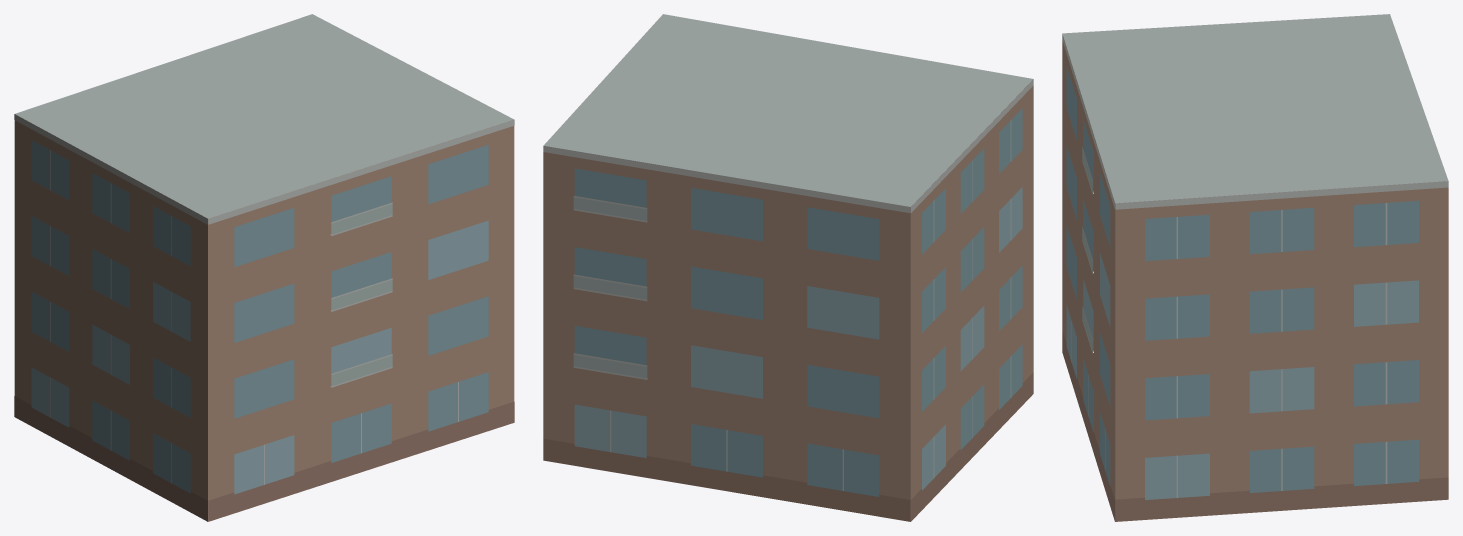
The model's file is survey-upis-32579033.glb.
3 renders of one model, left to right at view 1: azimuth 30°, elevation 25°; view 2: azimuth 150°, elevation 25°; view 3: azimuth 270°, elevation 25°, orthographic. The views are drawn at different scales.
Parts seen in each view (by area): view 1: survey-upis-32579033.tmp; view 2: survey-upis-32579033.tmp; view 3: survey-upis-32579033.tmp.
Boxes of the visible parts, x1,y1,x2,y2 form: survey-upis-32579033.tmp: (14, 14, 514, 521); survey-upis-32579033.tmp: (543, 14, 1033, 521); survey-upis-32579033.tmp: (1062, 14, 1448, 521).
Bounding box in the file's own units: 15.56 × 12.2 × 13.42.
